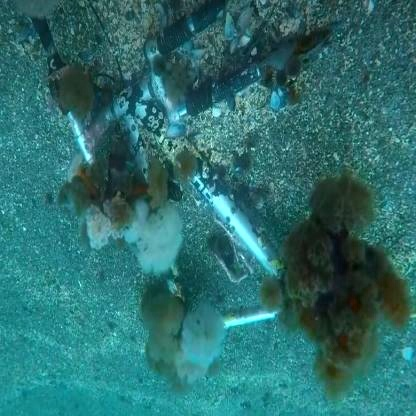electronics: (135, 35, 300, 288)
